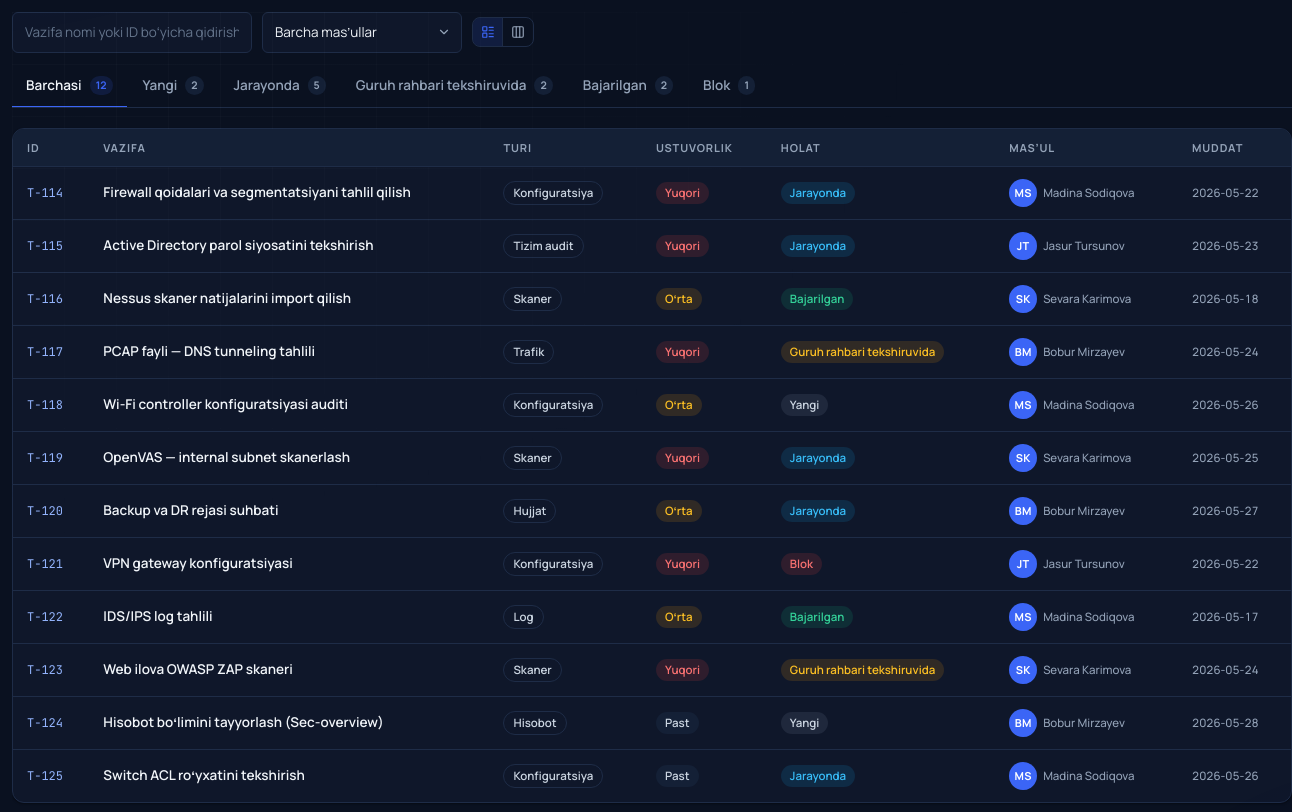
Test: TasksTab › filters rows by the search query (title / id)
In the field labelled "Vazifa nomi yoki ID boʻyicha qidirish": (132, 32) [12,12,252,53], type "zzz-no-match-zzz"
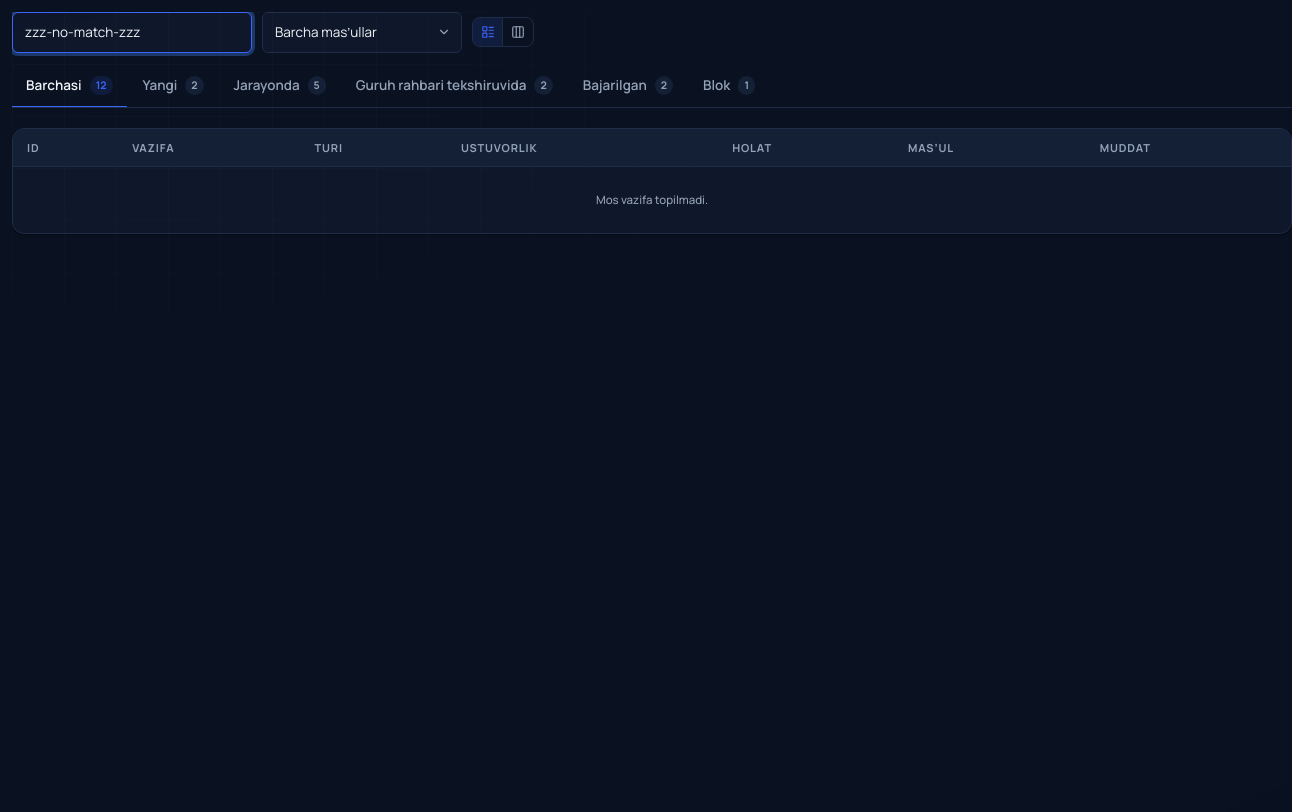
Expected: the text "Mos vazifa topilmadi." is shown, [13,167,1291,233]
Expected: the link "T-114" is gone
